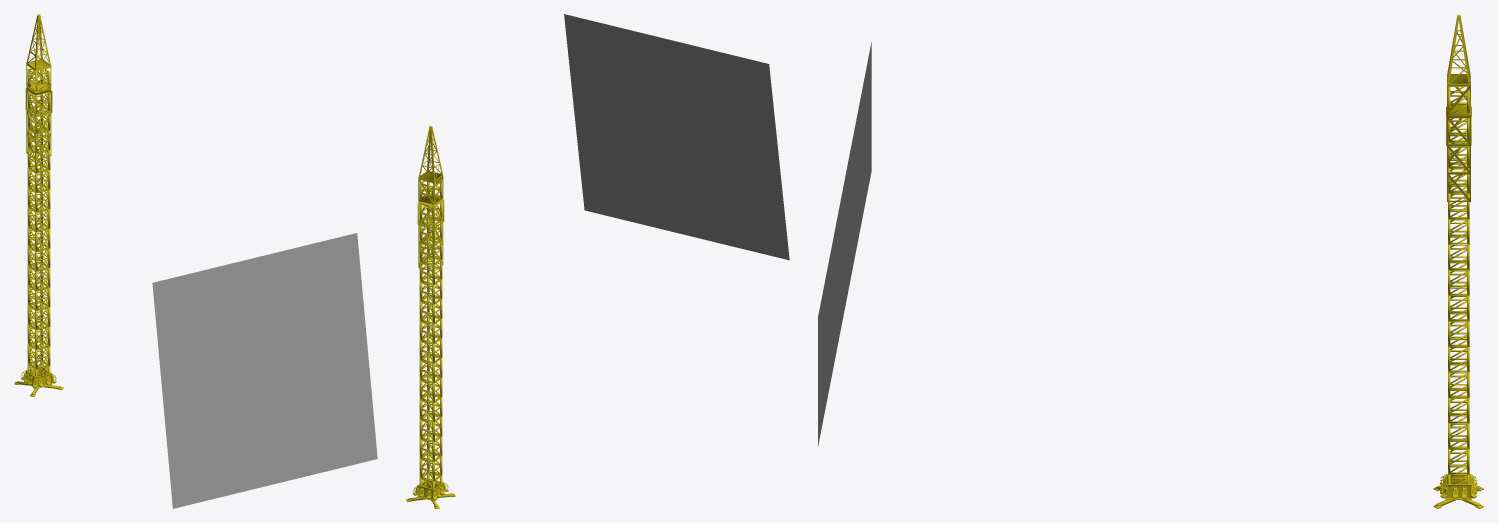
Rendered from DropTower.obj.
The picture shows the model from 3 angles, left to right: view 1: azimuth 30°, elevation 25°; view 2: azimuth 150°, elevation 25°; view 3: azimuth 270°, elevation 25°; orthographic projection. The views are drawn at different scales.
Parts seen in each view (by area): view 1: Plane, crane_Mesh.065, Cube.002_Cube.032; view 2: Plane, crane_Mesh.065, Cube.002_Cube.032; view 3: crane_Mesh.065, Plane, Cube.002_Cube.032.
Part boxes in pixels (left/top/right/bottom): Plane: left=152, top=233, right=377, bottom=508; crane_Mesh.065: left=14, top=14, right=63, bottom=396; Cube.002_Cube.032: left=21, top=368, right=56, bottom=388; Plane: left=564, top=14, right=789, bottom=260; crane_Mesh.065: left=406, top=126, right=455, bottom=508; Cube.002_Cube.032: left=413, top=481, right=448, bottom=501; crane_Mesh.065: left=1433, top=14, right=1483, bottom=508; Plane: left=818, top=42, right=871, bottom=446; Cube.002_Cube.032: left=1439, top=474, right=1477, bottom=499.
Size of the model in its own units: 11.8 by 20.47 by 25.52.
